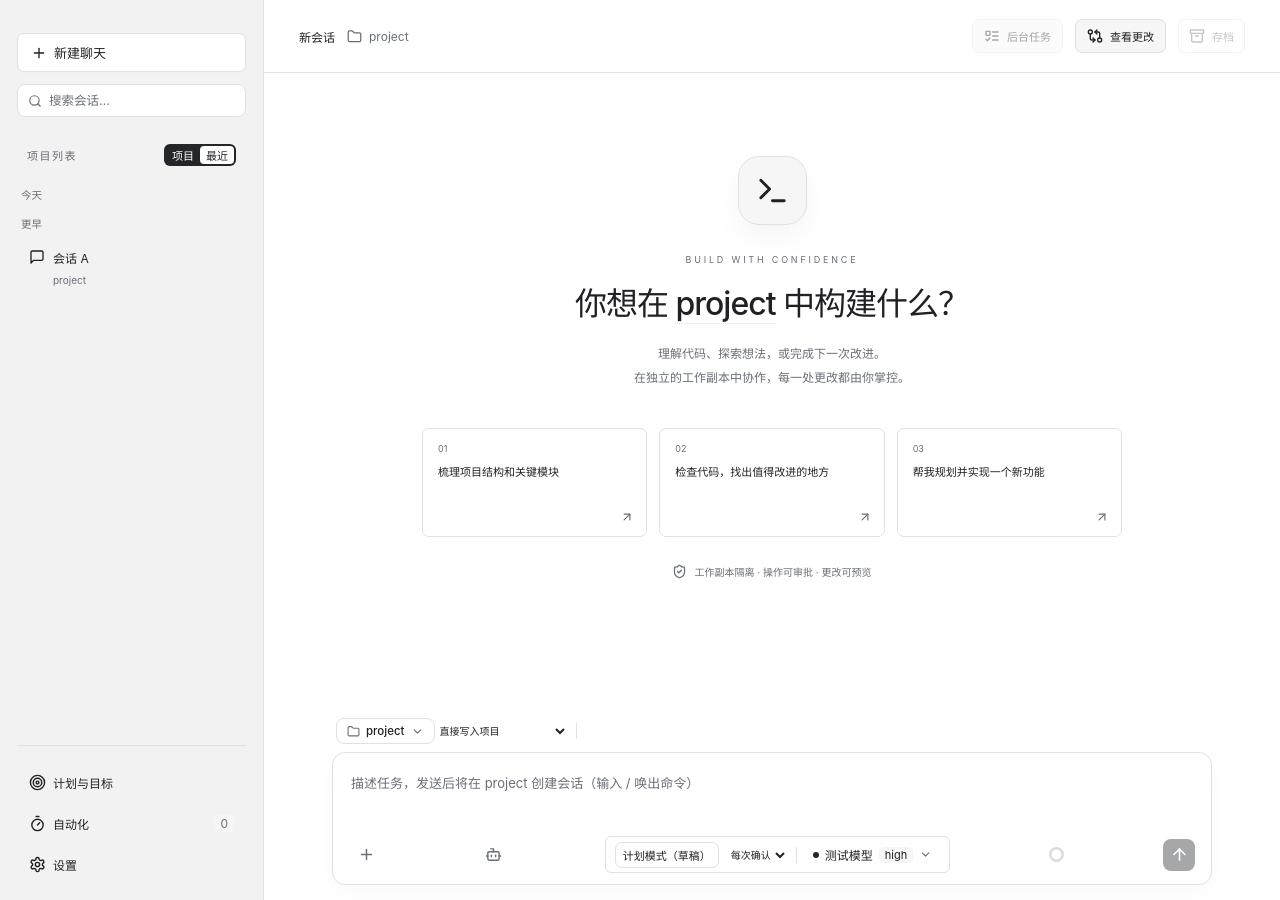
Scenario: 完整回合复制 › 异常终态 error 保持平铺但不显示复制按钮
Click the button "会话 A project" at (126, 268), box [17, 238, 236, 297]
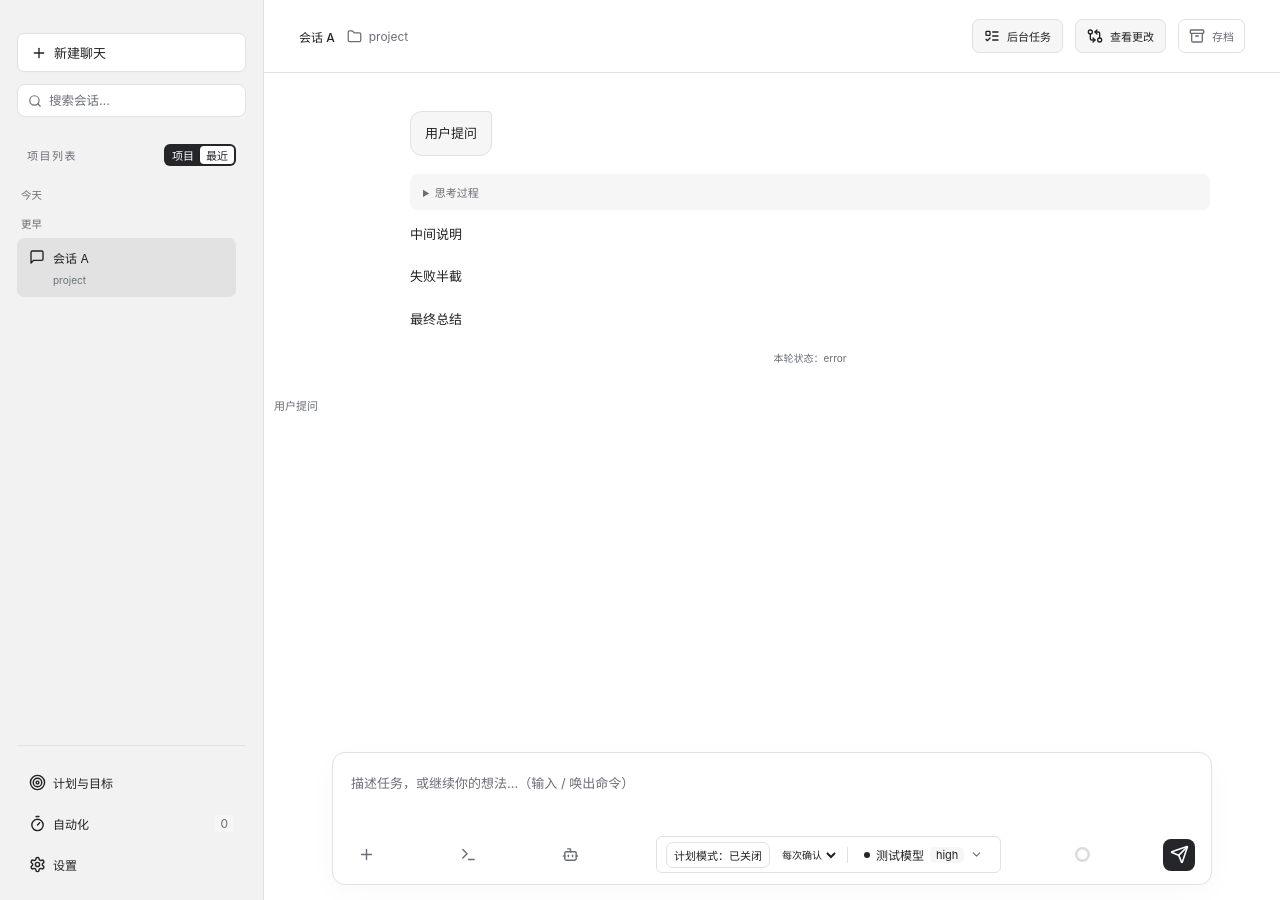
Check: the text "中间说明" is shown, box [410, 226, 462, 242]
